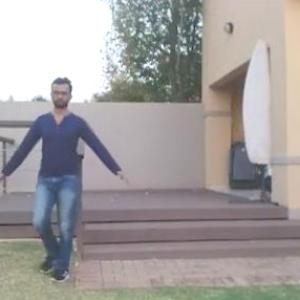land: (0, 74, 141, 292)
